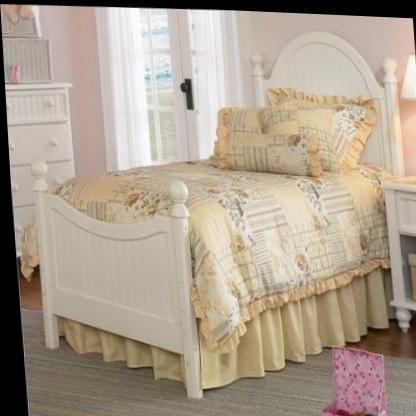Bed: (13, 13, 416, 410)
